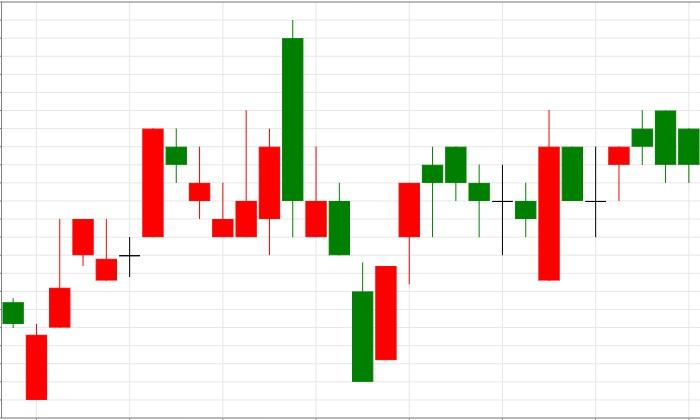three_white_soldiers_rise: (422, 110, 559, 281)
